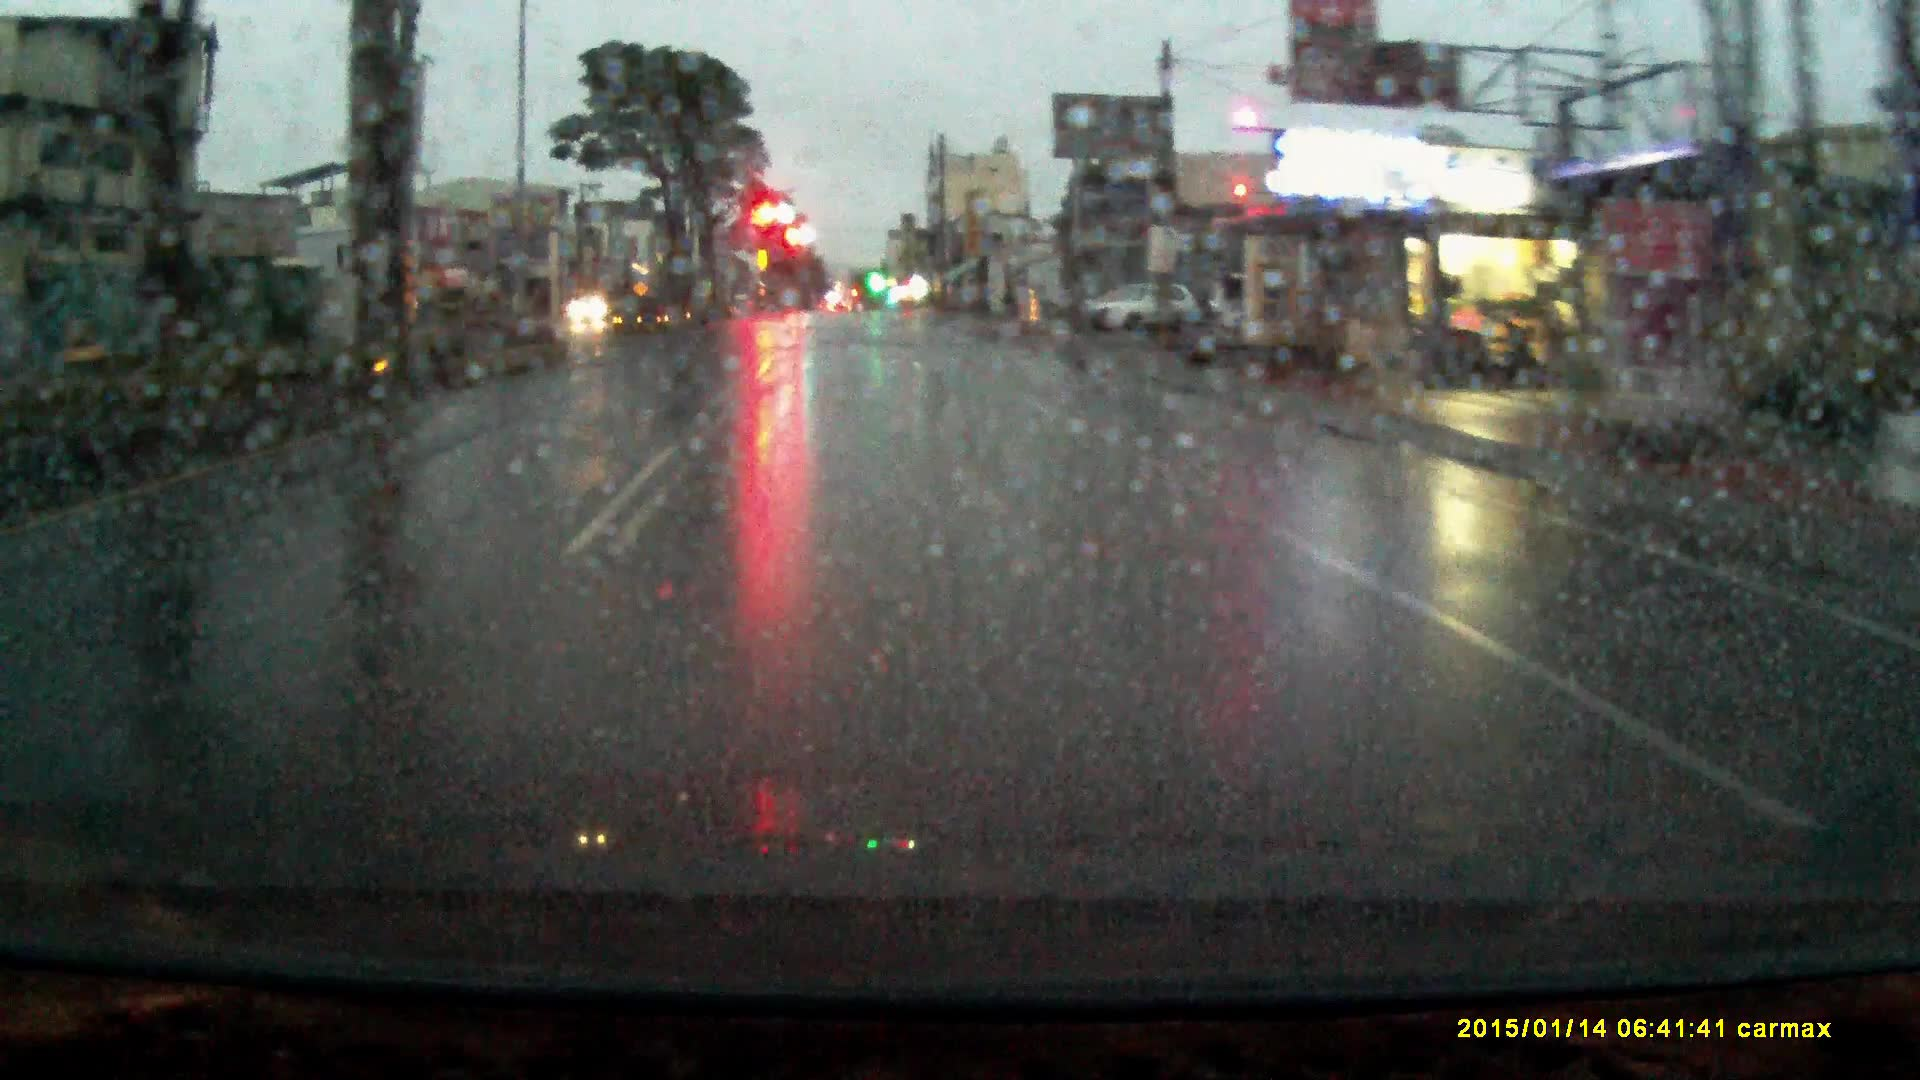vehicle: (1088, 284, 1203, 339), (567, 294, 616, 328)
